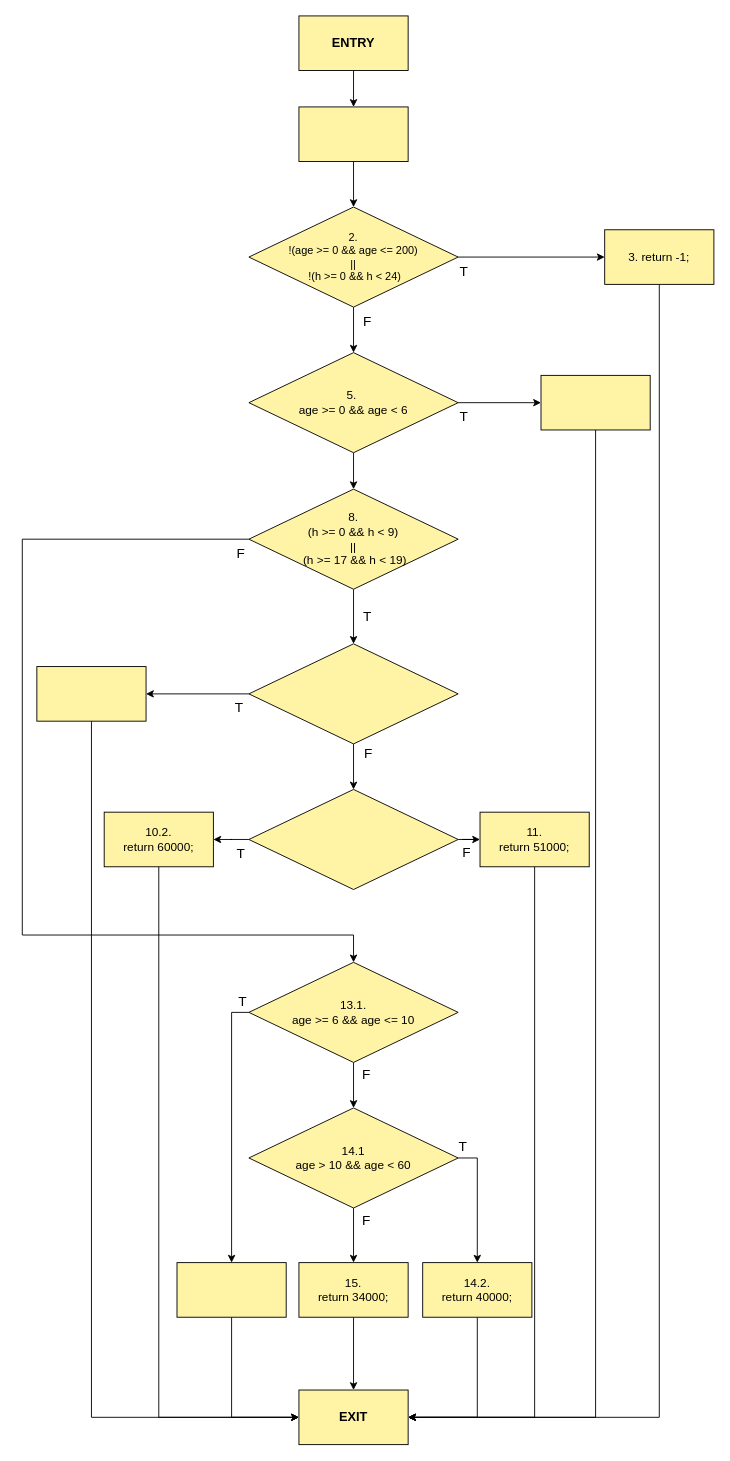
This 730x1461 diagram has some shape labels left out. The centre of each missing label's shape, as x and y in pixels:
1.input(h, age): (x=353, y=134)
10.1. age > 10 && age < 60: (x=353, y=839)
13.2. return 30000;: (x=231, y=1289)
6. return 0;: (x=595, y=402)
9.1. age >= 6 && age <= 10: (x=353, y=693)
9.2. return 45000;: (x=91, y=693)
